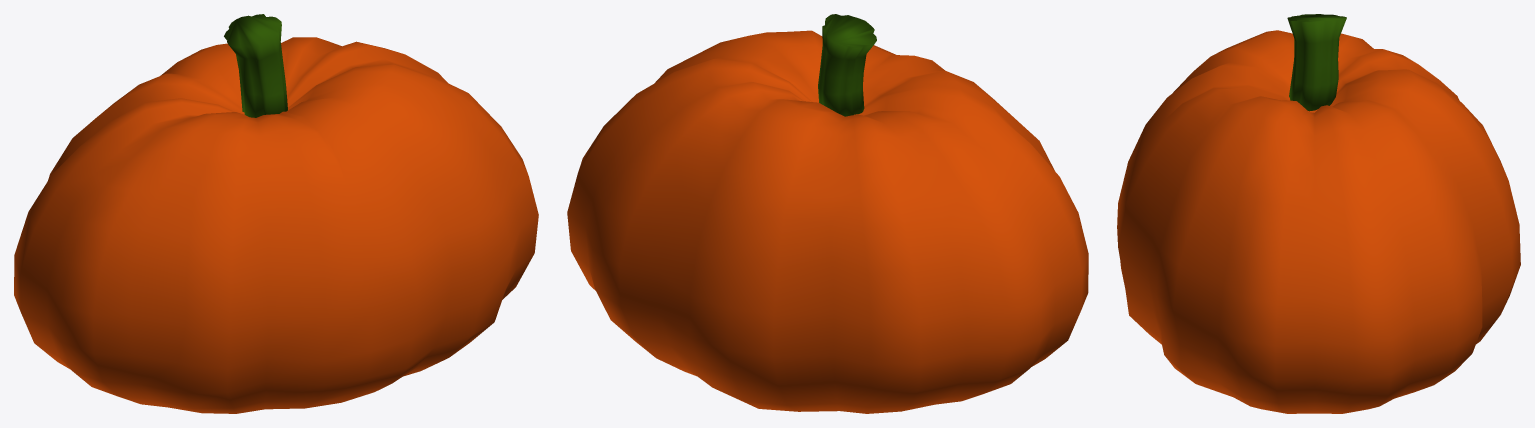
File: Pumpkin_Wide.fbx
The picture shows the model from 3 angles, left to right: view 1: azimuth 30°, elevation 25°; view 2: azimuth 150°, elevation 25°; view 3: azimuth 270°, elevation 25°; orthographic projection. The views are drawn at different scales.
Visible parts, largest first — view 1: Pumpkin Wide; view 2: Pumpkin Wide; view 3: Pumpkin Wide.
Boxes of the visible parts, bbox=[...] form: Pumpkin Wide: bbox=[14, 14, 538, 413]; Pumpkin Wide: bbox=[567, 14, 1088, 413]; Pumpkin Wide: bbox=[1117, 14, 1520, 413].
Bounding box in the file's own units: 147 × 104 × 113.
